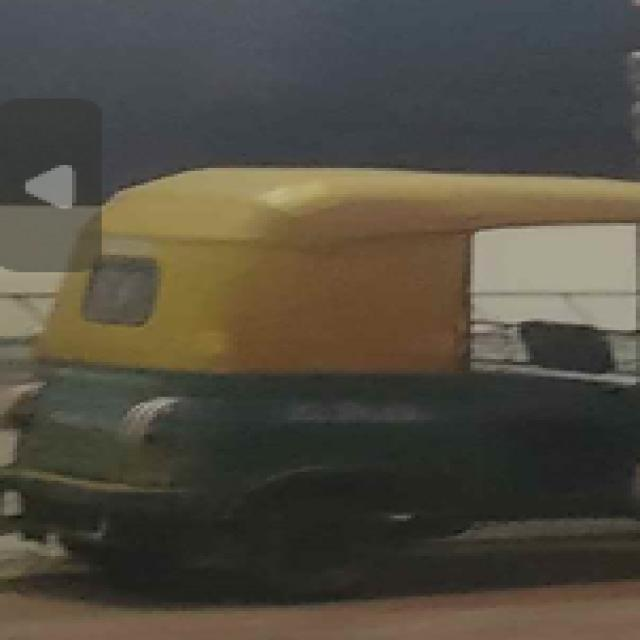autorickshaw: (21, 165, 640, 605)
